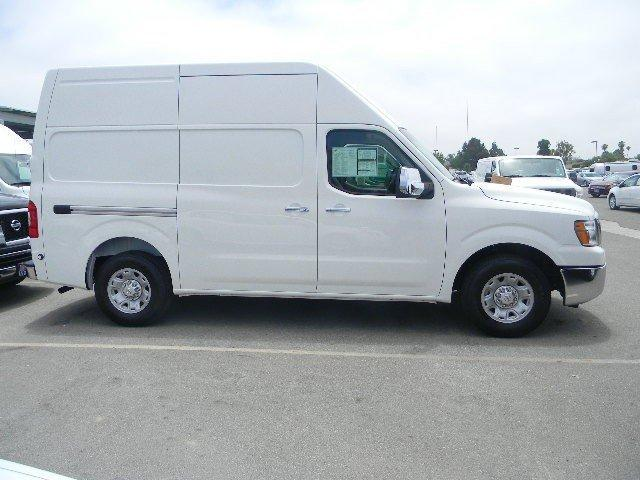car: (4, 61, 614, 323)
